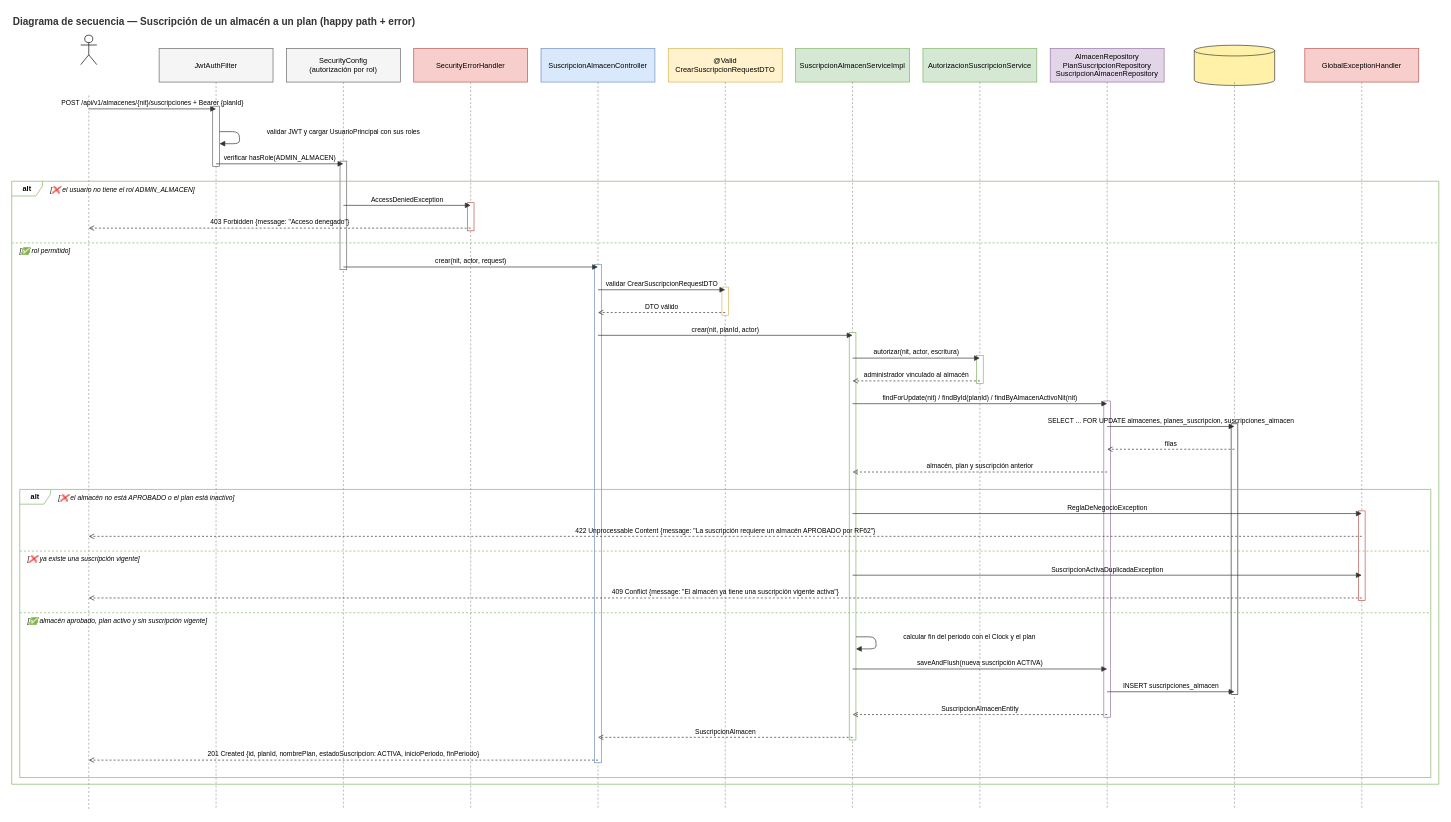
This 1451x822 diagram has some shape labels left out. Each missing label, with the centre of its shape:
Cliente / Front (ADMIN_ALMACEN): (x=88, y=50)
PostgreSQL: (x=1234, y=65)
